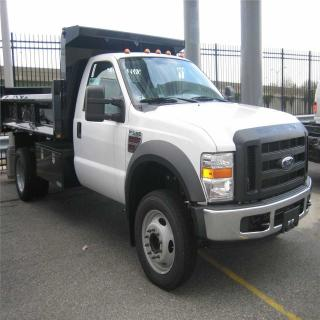Towing_truck: (1, 24, 312, 292)
